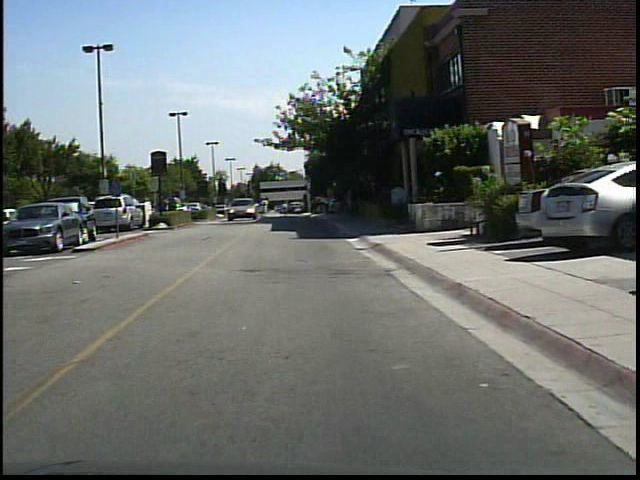person: (155, 191, 172, 226), (256, 194, 271, 224)
